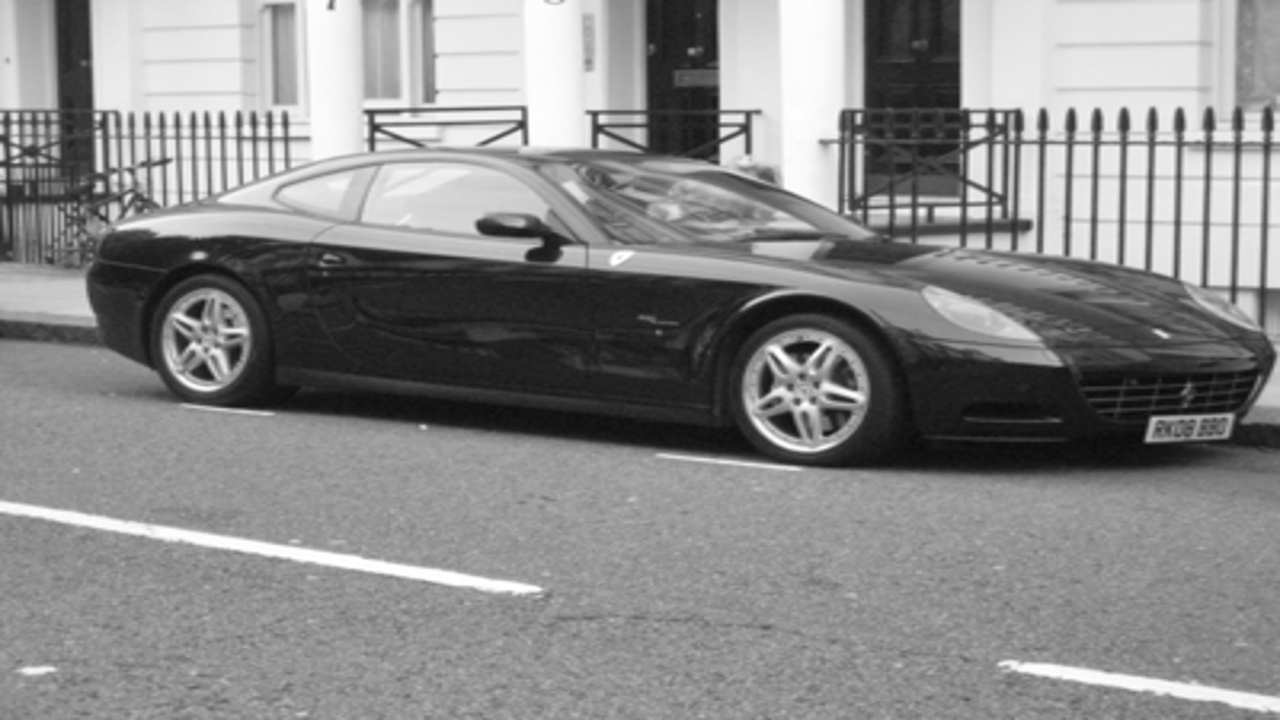license: (1141, 408, 1239, 451)
